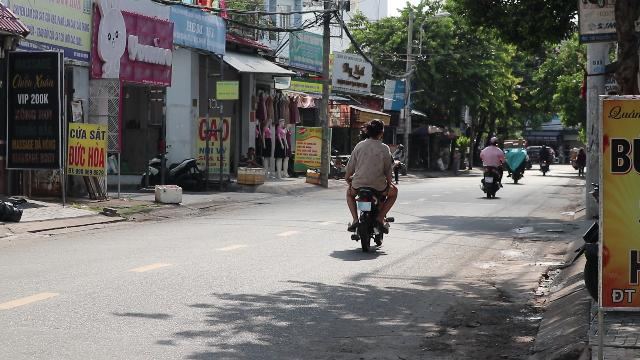motorcyclist: (342, 117, 400, 250)
nohelmet: (365, 118, 385, 138)
